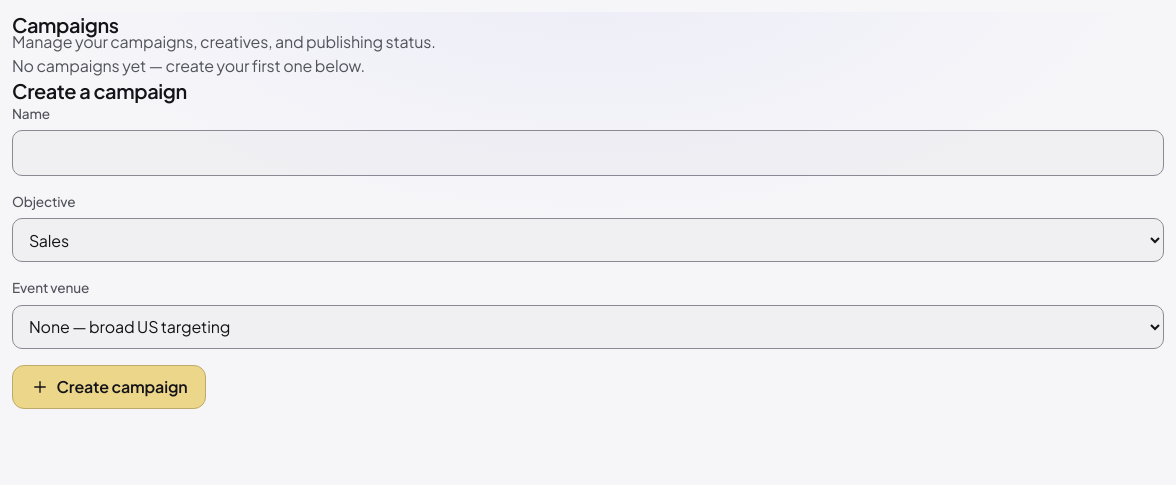
Test: CampaignsSection › shows an error if campaign creation fails
Expected: the text "No campaigns yet — create your first one below." is shown, [12,55,365,76]
Click the button "Create campaign" at {"x": 109, "y": 387}, box [12,365,206,409]
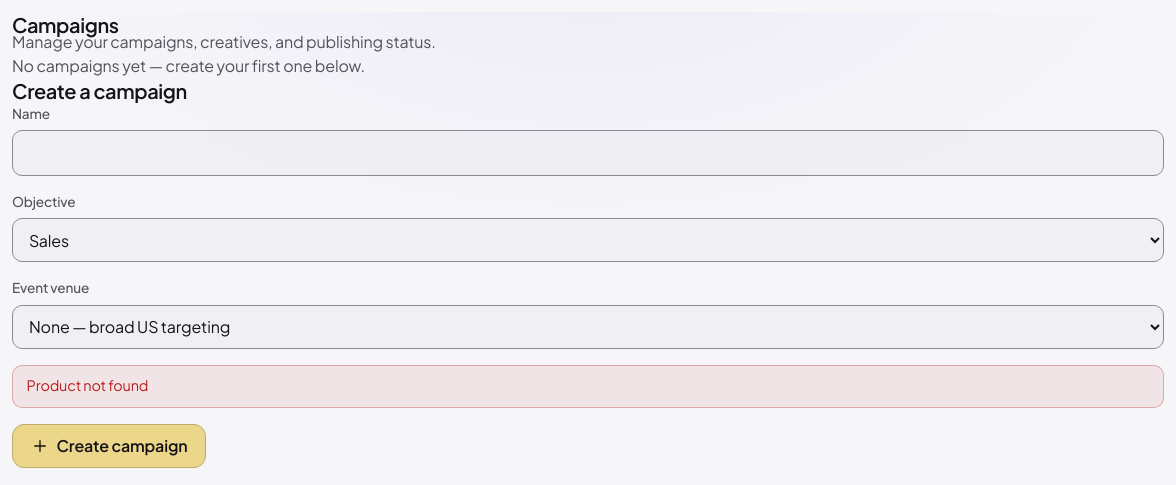
Result: the message reads "Product not found" at [27,376,148,394]
